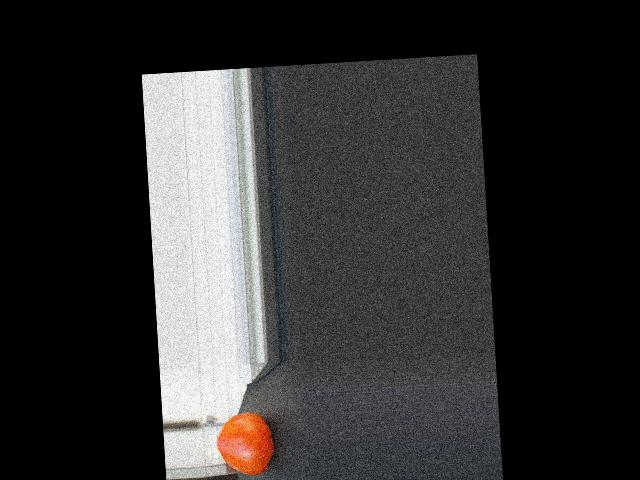tomato: (214, 411, 275, 477)
